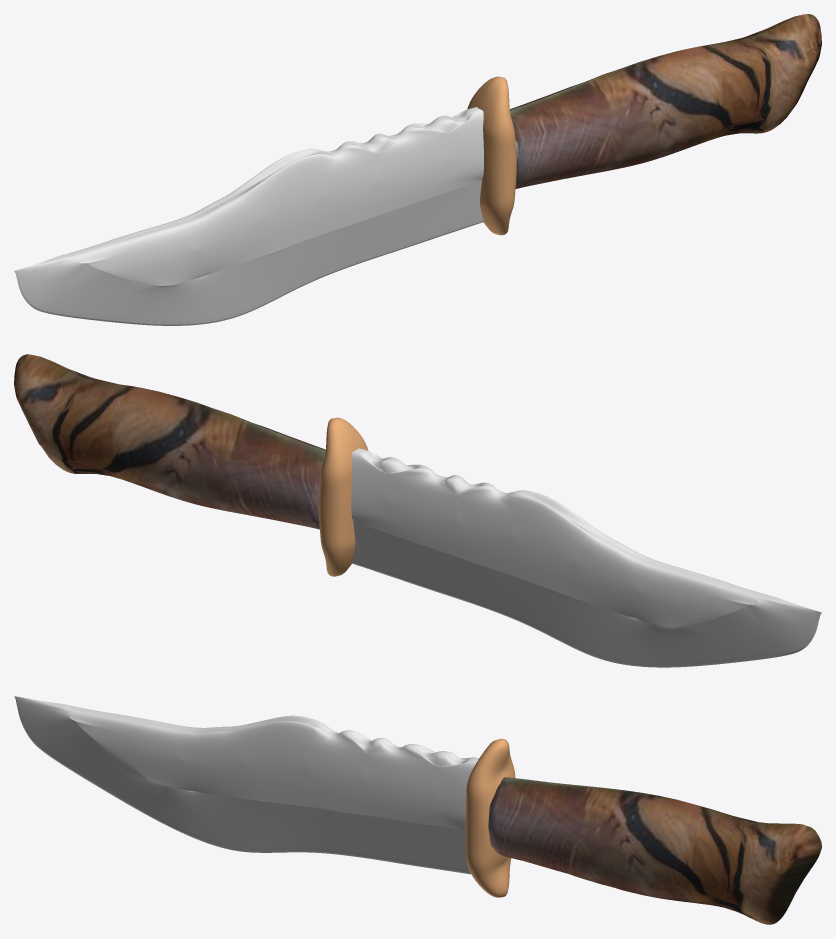
Rendered from Knife modell.fbx.
The picture shows the model from 3 angles, top to bottom: view 1: azimuth 30°, elevation 25°; view 2: azimuth 150°, elevation 25°; view 3: azimuth 330°, elevation 25°; orthographic projection.
Visible parts, largest first — view 1: Cube.002; view 2: Cube.002; view 3: Cube.002.
Boxes of the visible parts, x1,y1,x2,y2 form: Cube.002: [14, 14, 821, 325]; Cube.002: [14, 354, 821, 667]; Cube.002: [14, 696, 821, 924].
Size of the model in its own units: 454 by 94.53 by 34.46.
Materials: 3 (1 with a texture image).
